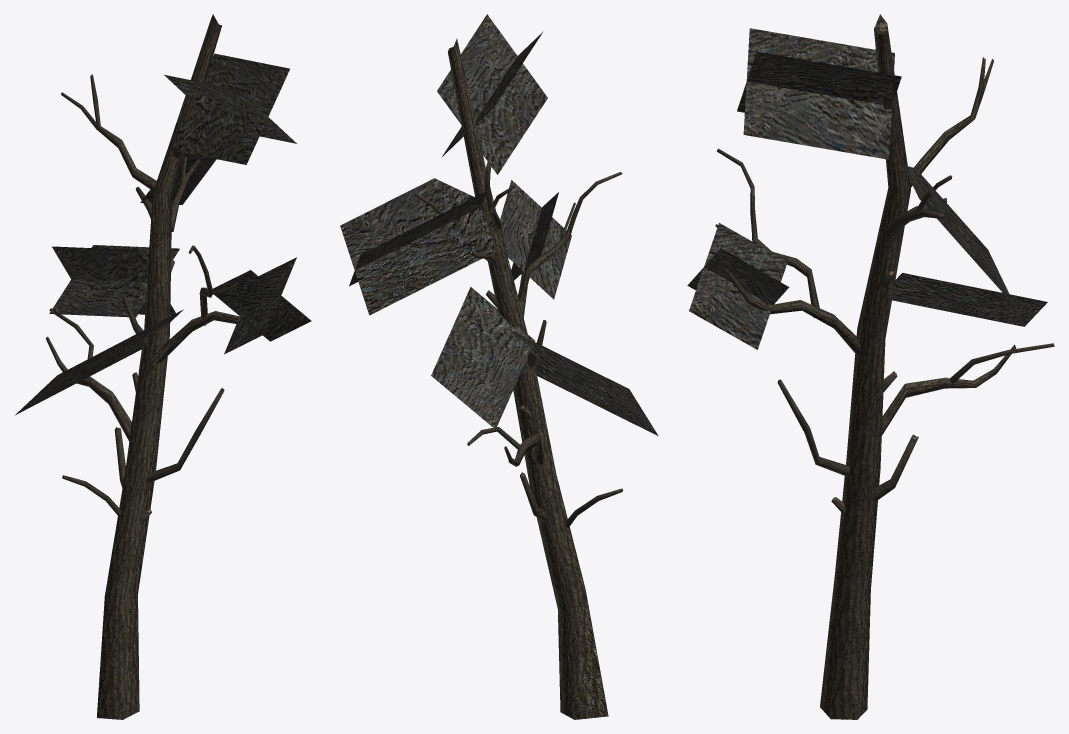
File: tree_goth_dead_sm.fbx
The picture shows the model from 3 angles, left to right: view 1: azimuth 30°, elevation 25°; view 2: azimuth 150°, elevation 25°; view 3: azimuth 270°, elevation 25°; orthographic projection. The views are drawn at different scales.
Visible parts, largest first — view 1: mesh_0, mesh_1; view 2: mesh_1, mesh_0; view 3: mesh_1, mesh_0.
Boxes of the visible parts, bbox=[...] form: mesh_0: bbox=[46, 14, 240, 719]; mesh_1: bbox=[15, 53, 311, 415]; mesh_1: bbox=[340, 14, 658, 435]; mesh_0: bbox=[415, 38, 622, 719]; mesh_1: bbox=[687, 28, 1047, 349]; mesh_0: bbox=[715, 14, 1054, 719].
Size of the model in its own units: 408 by 996 by 437.
Materials: 2 (2 with a texture image).
